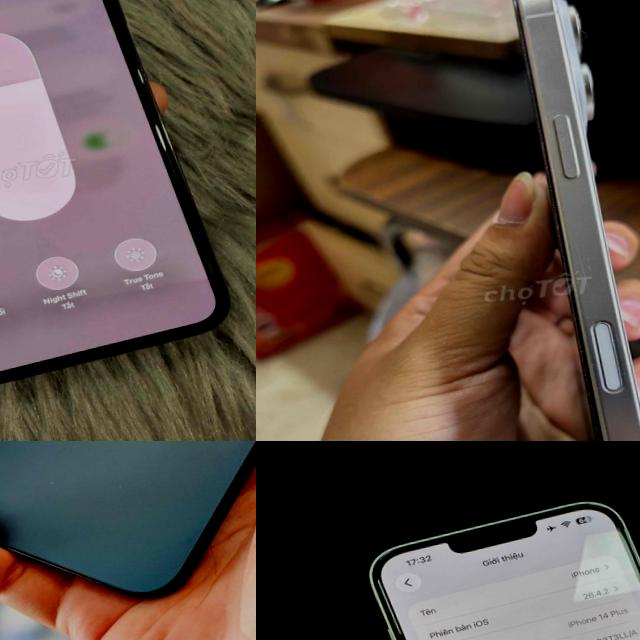scratch: (572, 248, 610, 306), (560, 134, 588, 186), (606, 328, 638, 359)
